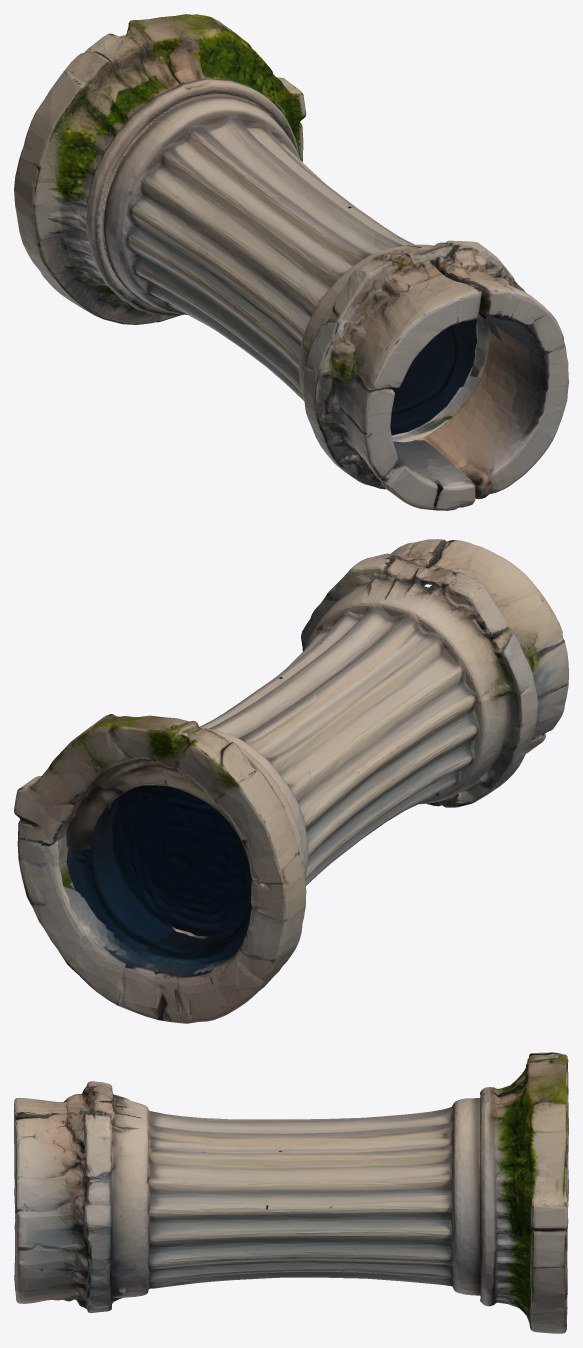
The model's file is fallen-column-drum-segment-optimized.glb.
The picture shows the model from 3 angles, top to bottom: view 1: azimuth 30°, elevation 25°; view 2: azimuth 150°, elevation 25°; view 3: azimuth 270°, elevation 25°; orthographic projection. The views are drawn at different scales.
Parts seen in each view (by area): view 1: 78029c3c-6d38-4987-8d4b-df1c76293c44_texturing.obj; view 2: 78029c3c-6d38-4987-8d4b-df1c76293c44_texturing.obj; view 3: 78029c3c-6d38-4987-8d4b-df1c76293c44_texturing.obj.
Part boxes in pixels (left/top/right/bottom): 78029c3c-6d38-4987-8d4b-df1c76293c44_texturing.obj: left=14, top=14, right=568, bottom=510; 78029c3c-6d38-4987-8d4b-df1c76293c44_texturing.obj: left=14, top=539, right=568, bottom=1023; 78029c3c-6d38-4987-8d4b-df1c76293c44_texturing.obj: left=14, top=1052, right=568, bottom=1333.
Size of the model in its own units: 0.9915 by 1.01 by 2.
1 material, 1 textured.
